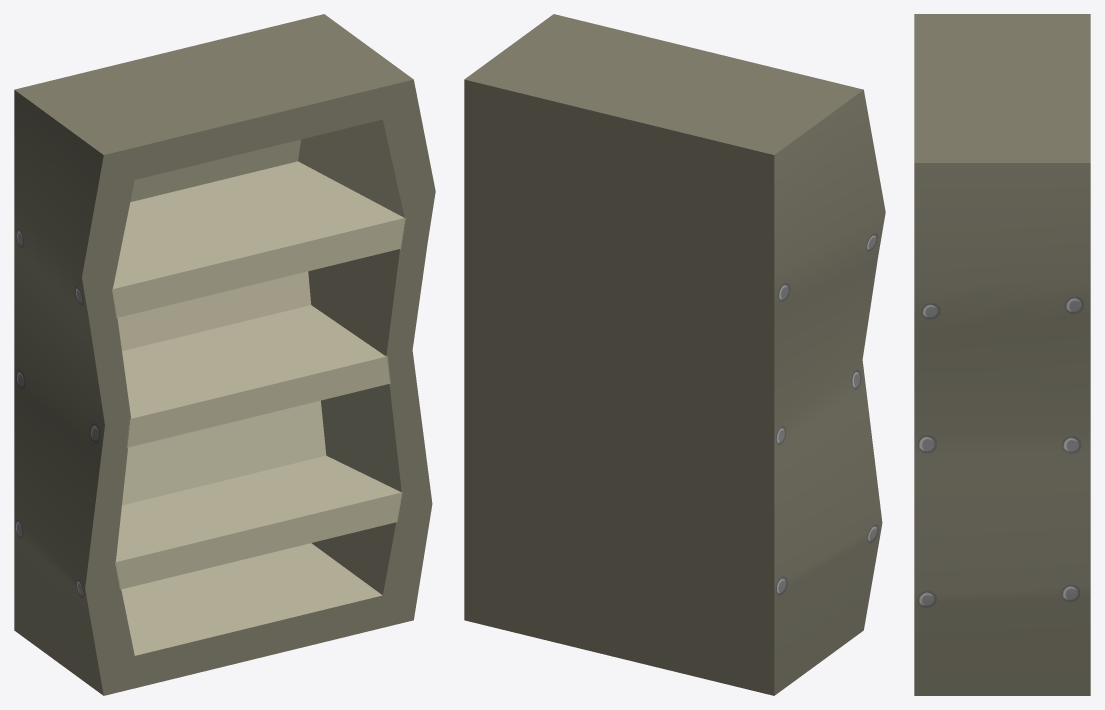
File: BookShelf.FBX
3 views of the same model, side by side, from view 1: azimuth 30°, elevation 25°; view 2: azimuth 150°, elevation 25°; view 3: azimuth 270°, elevation 25° (orthographic).
Visible parts, largest first — view 1: Box001; view 2: Box001; view 3: Box001.
Part boxes in pixels (left/top/right/bottom): Box001: left=14, top=14, right=435, bottom=695; Box001: left=464, top=14, right=885, bottom=695; Box001: left=914, top=14, right=1090, bottom=695.
Bounding box in the file's own units: 67.39 × 98.43 × 29.53.
